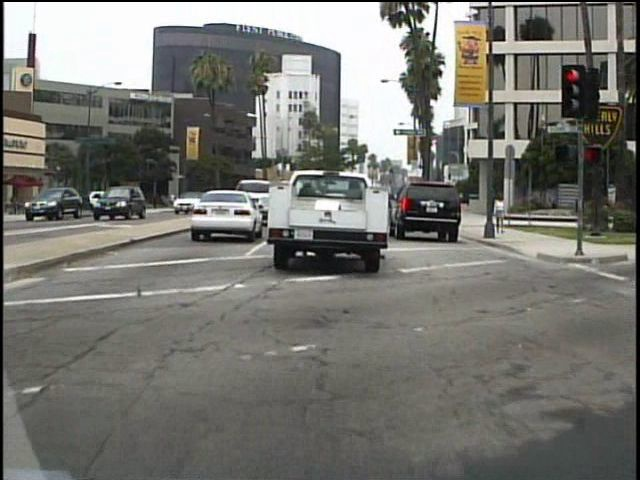person: (491, 189, 509, 238)
